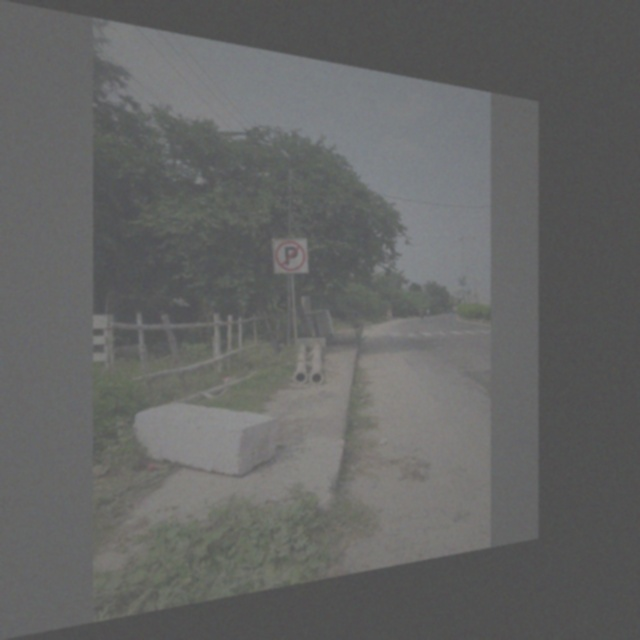No_Parking: (271, 235, 310, 277)
